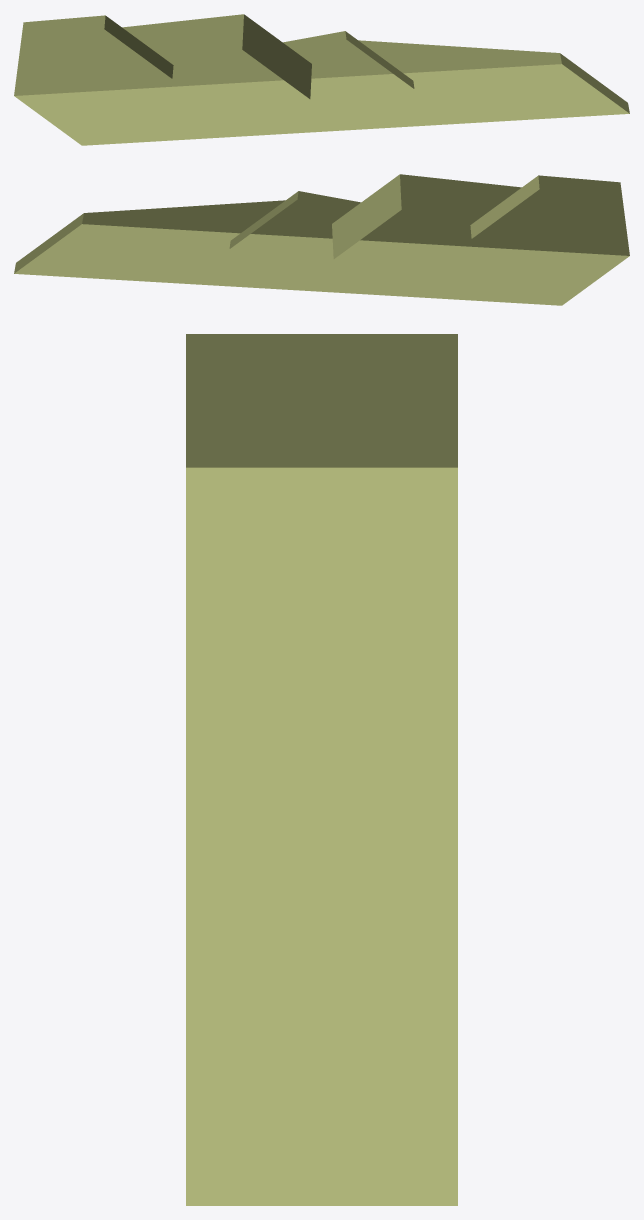
3 views of the same model, one above another, from view 1: azimuth 30°, elevation 25°; view 2: azimuth 150°, elevation 25°; view 3: azimuth 270°, elevation 25° (orthographic). The views are drawn at different scales.
Visible parts, largest first — view 1: 0_0_1_2_3_3_0_3_3; view 2: 0_0_1_2_3_3_0_3_3; view 3: 0_0_1_2_3_3_0_3_3.
Part boxes in pixels (x1,y1,x2,y2): 0_0_1_2_3_3_0_3_3: (14, 14, 629, 145); 0_0_1_2_3_3_0_3_3: (14, 174, 629, 305); 0_0_1_2_3_3_0_3_3: (186, 334, 457, 1205).
Bounding box in the file's own units: 41.87 × 12.64 × 9.
